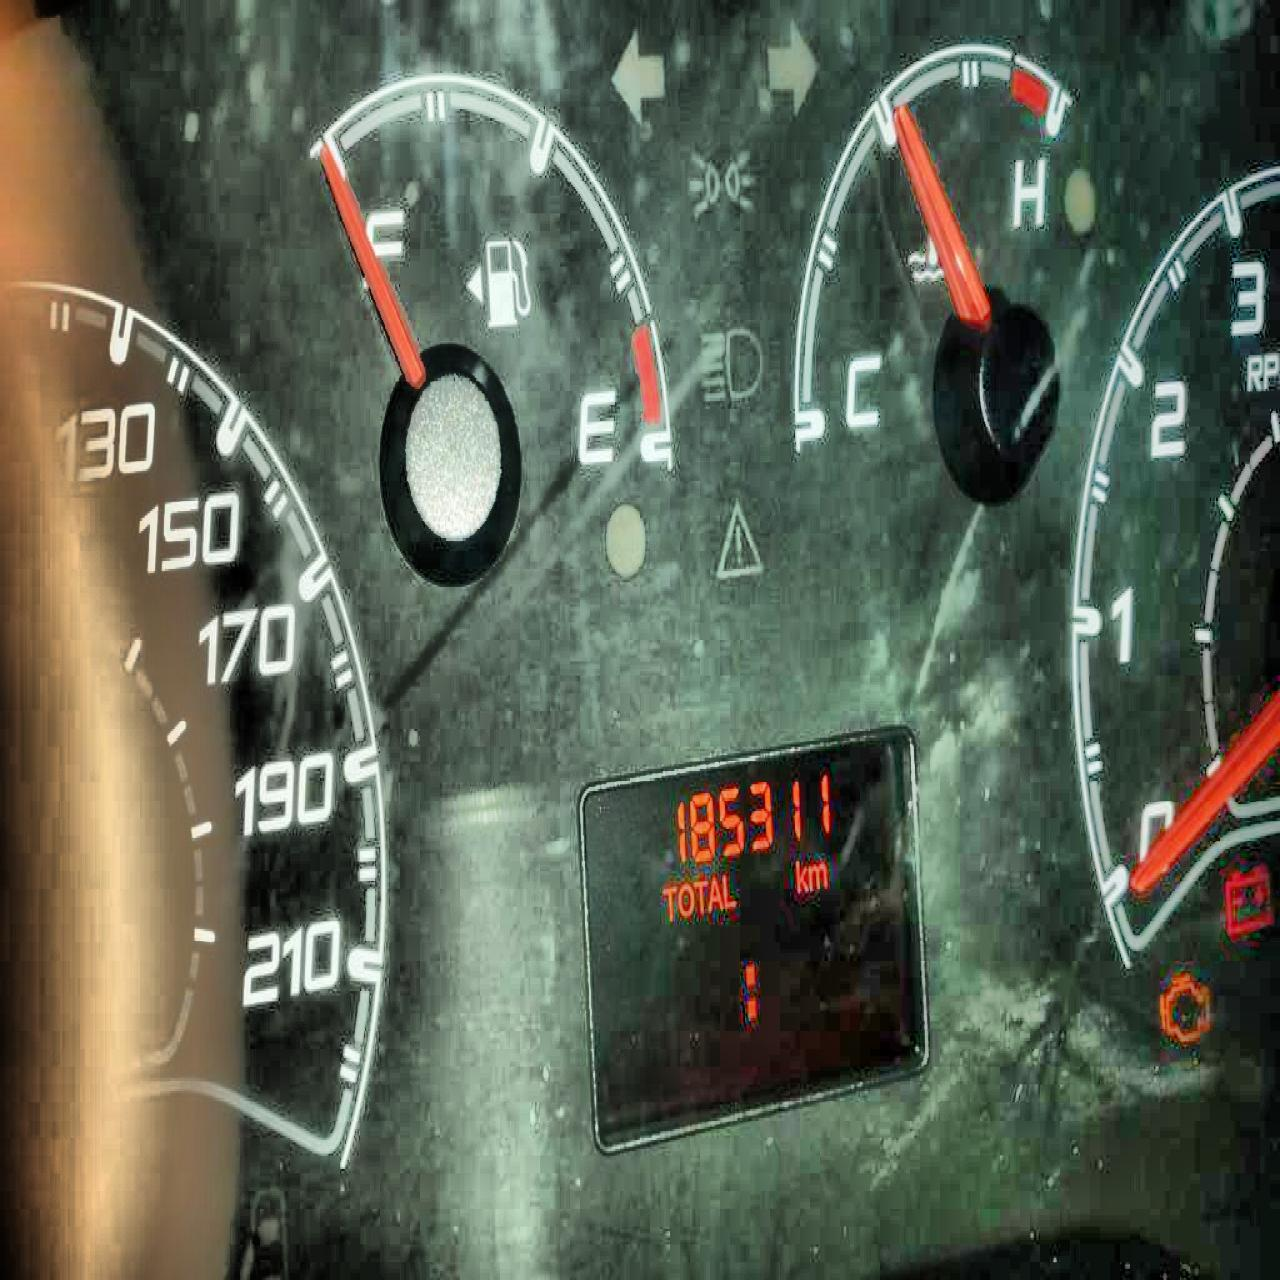1: (676, 800, 686, 862), (819, 771, 829, 833), (791, 778, 801, 838)
3: (748, 778, 772, 849)
5: (718, 784, 742, 856)
8: (687, 791, 715, 862)
X: (742, 960, 756, 1020), (675, 880, 695, 918), (806, 860, 828, 891), (706, 876, 722, 911), (720, 873, 735, 909), (662, 884, 676, 920), (692, 878, 706, 913), (795, 858, 807, 893)
odometer: (576, 722, 932, 1156)
